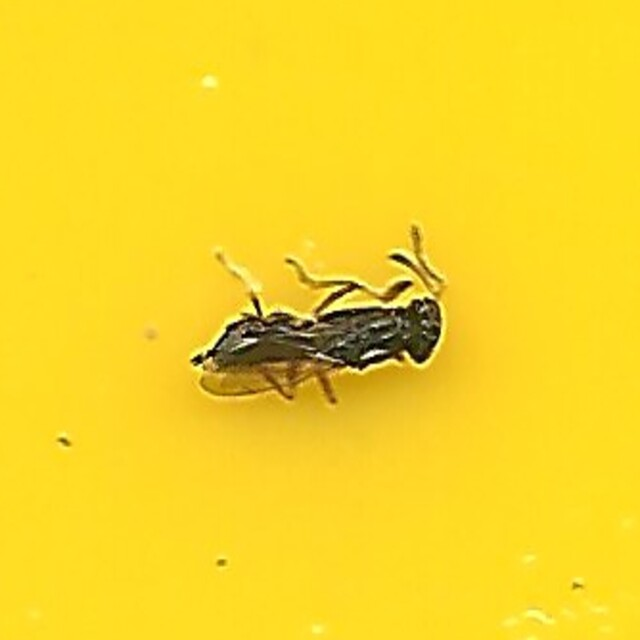Hymenoptera: (192, 230, 448, 410)
